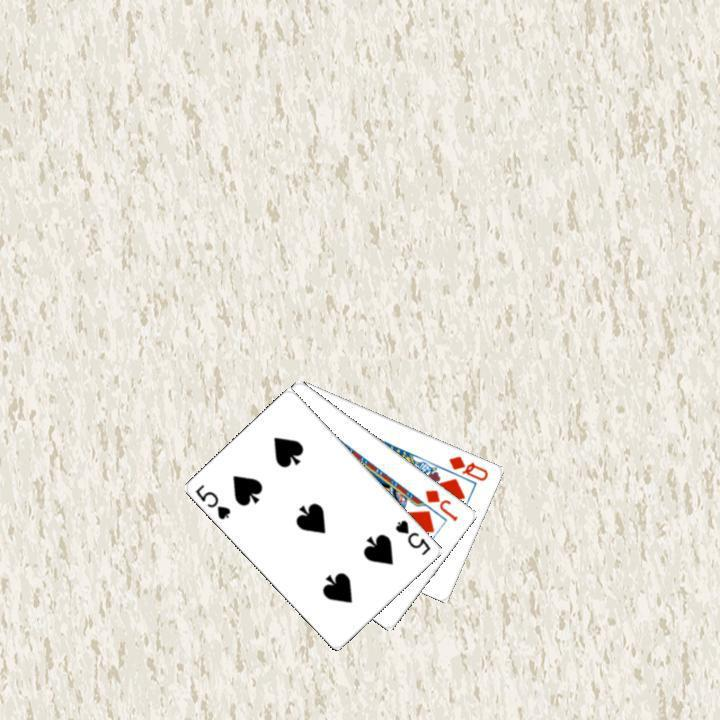5: (391, 515, 433, 557), (191, 480, 233, 522)
J: (421, 485, 460, 523)
Q: (444, 451, 491, 483)
